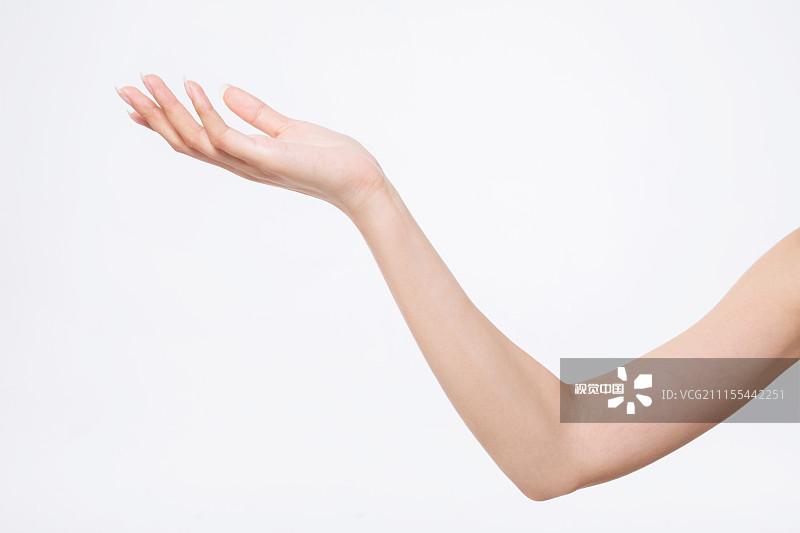no-phone: (91, 52, 394, 220)
